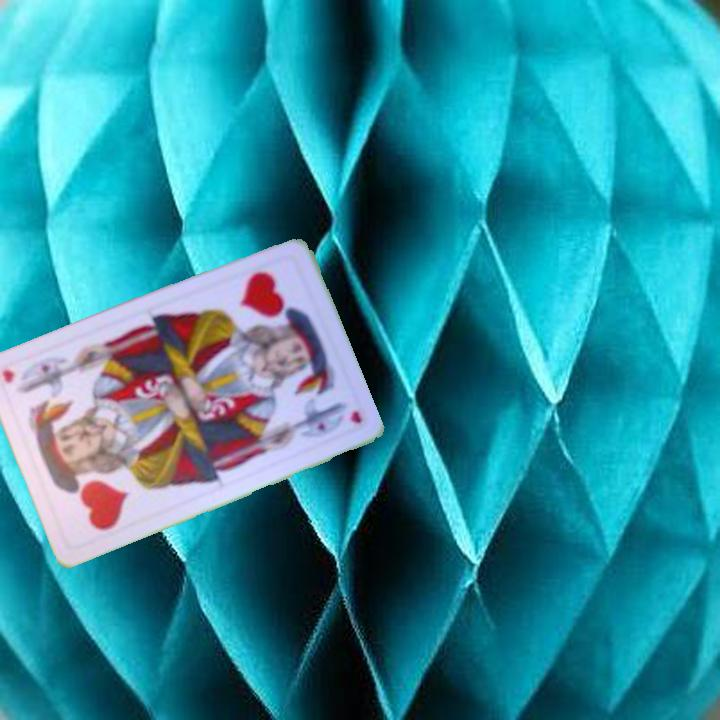h_j.png: (32, 426, 148, 549), (216, 250, 331, 373)
